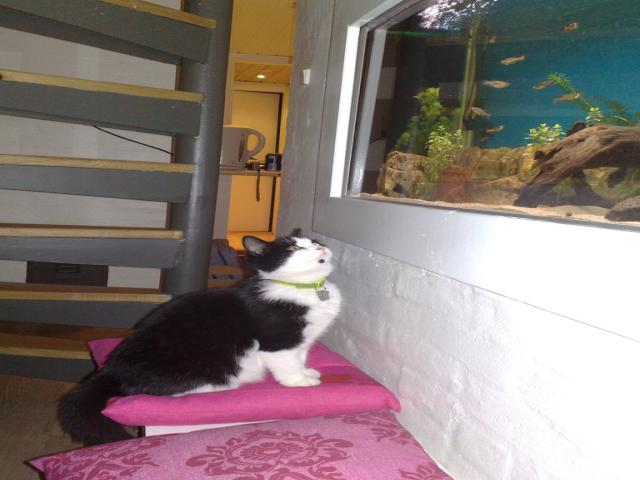Cat: (55, 226, 341, 447)
